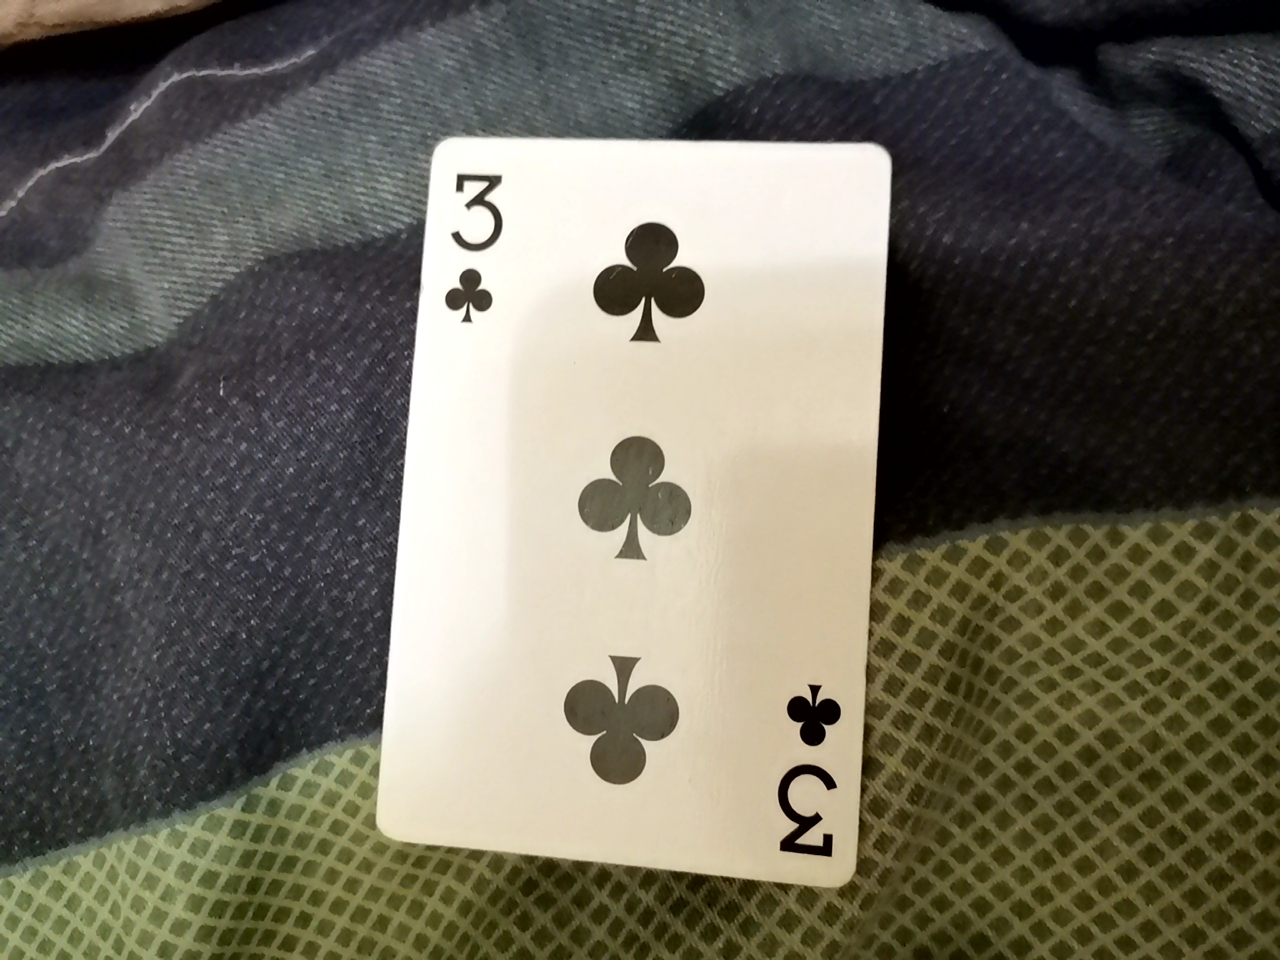mh 3: (358, 140, 907, 921)
